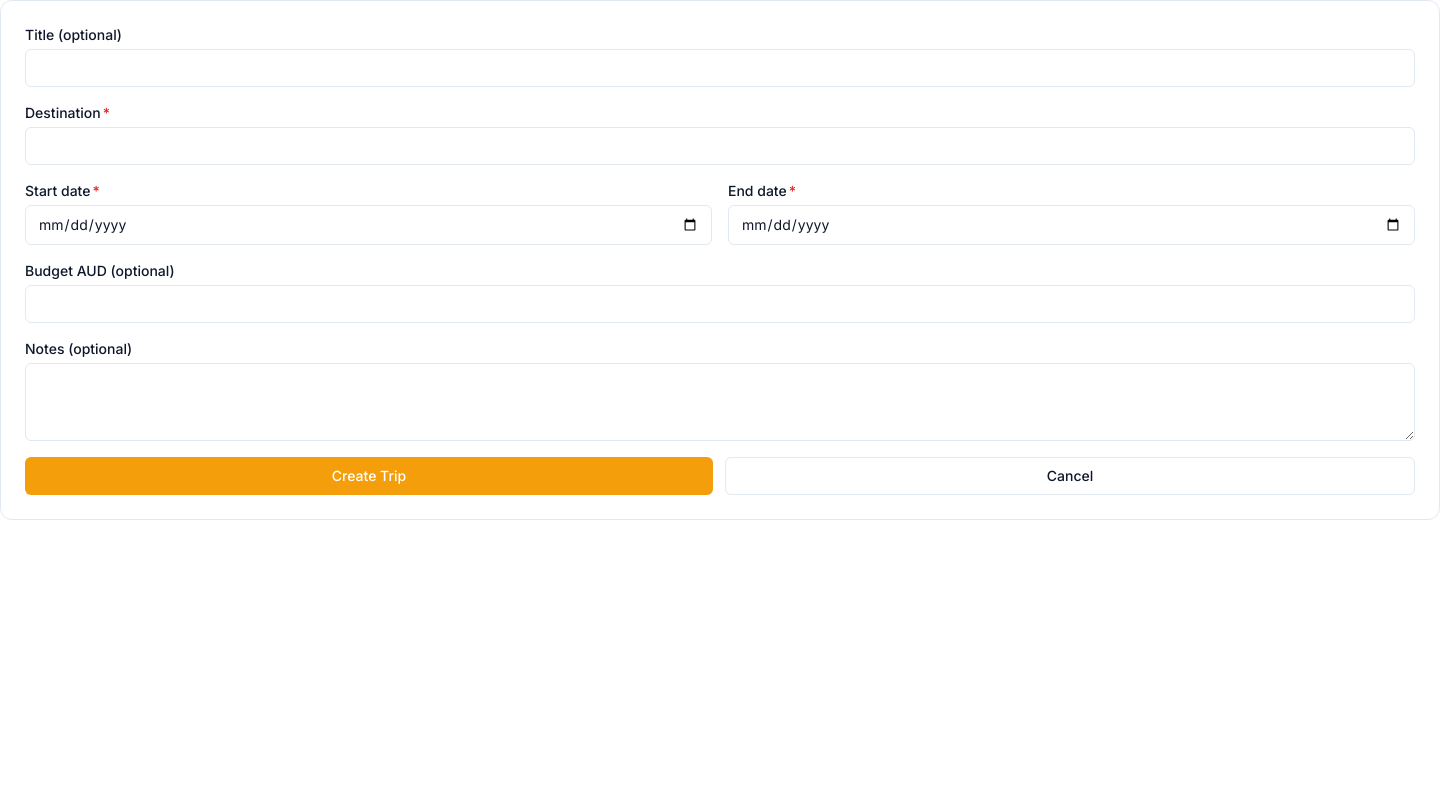
Test: TripForm › rejects endDate before startDate
Type "Bali" into the field labelled "Destination*". click: point(720, 146)
box: [25, 127, 1415, 165]
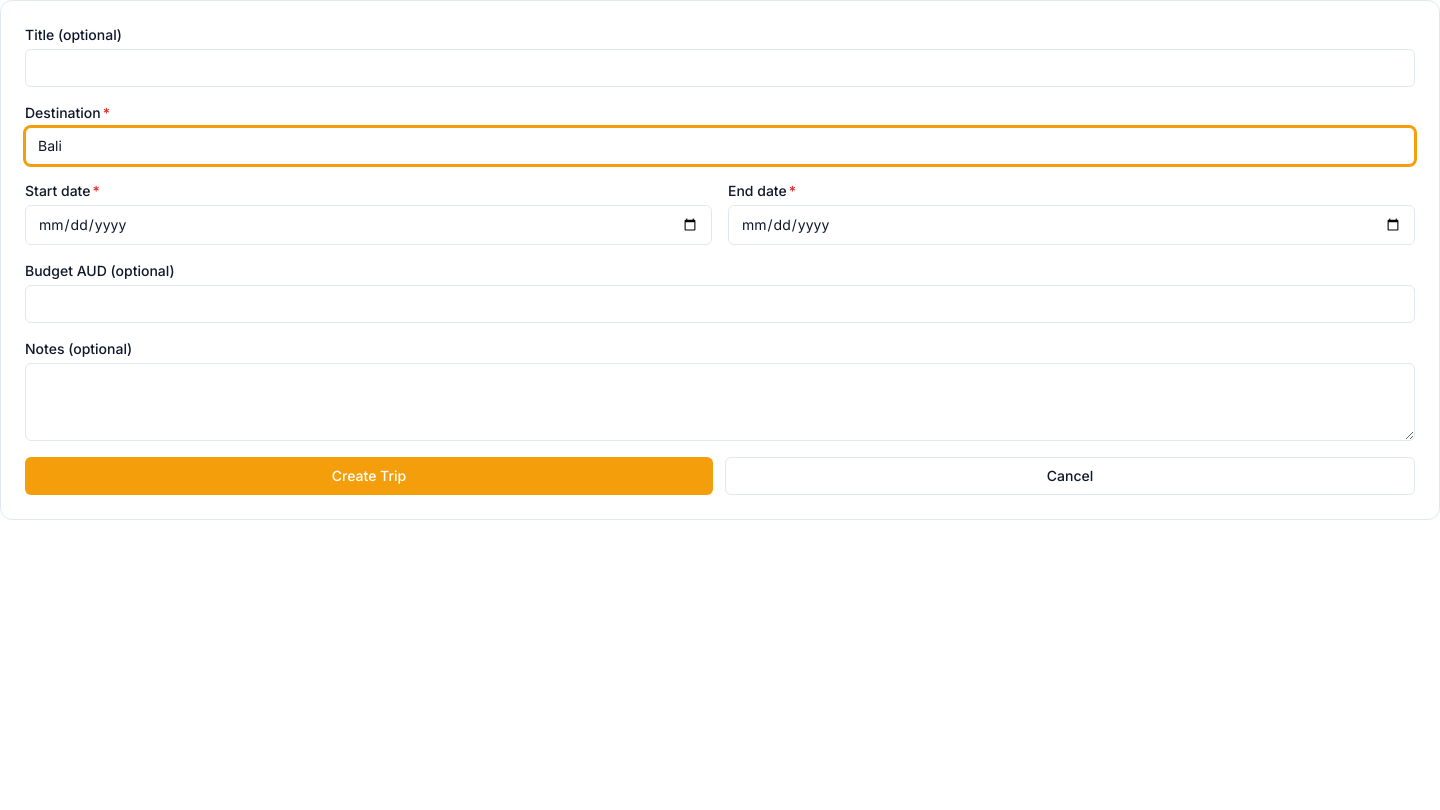
Type "2026-07-10" into the date field labelled "Start date*". click: point(368, 225)
box: [25, 205, 712, 245]
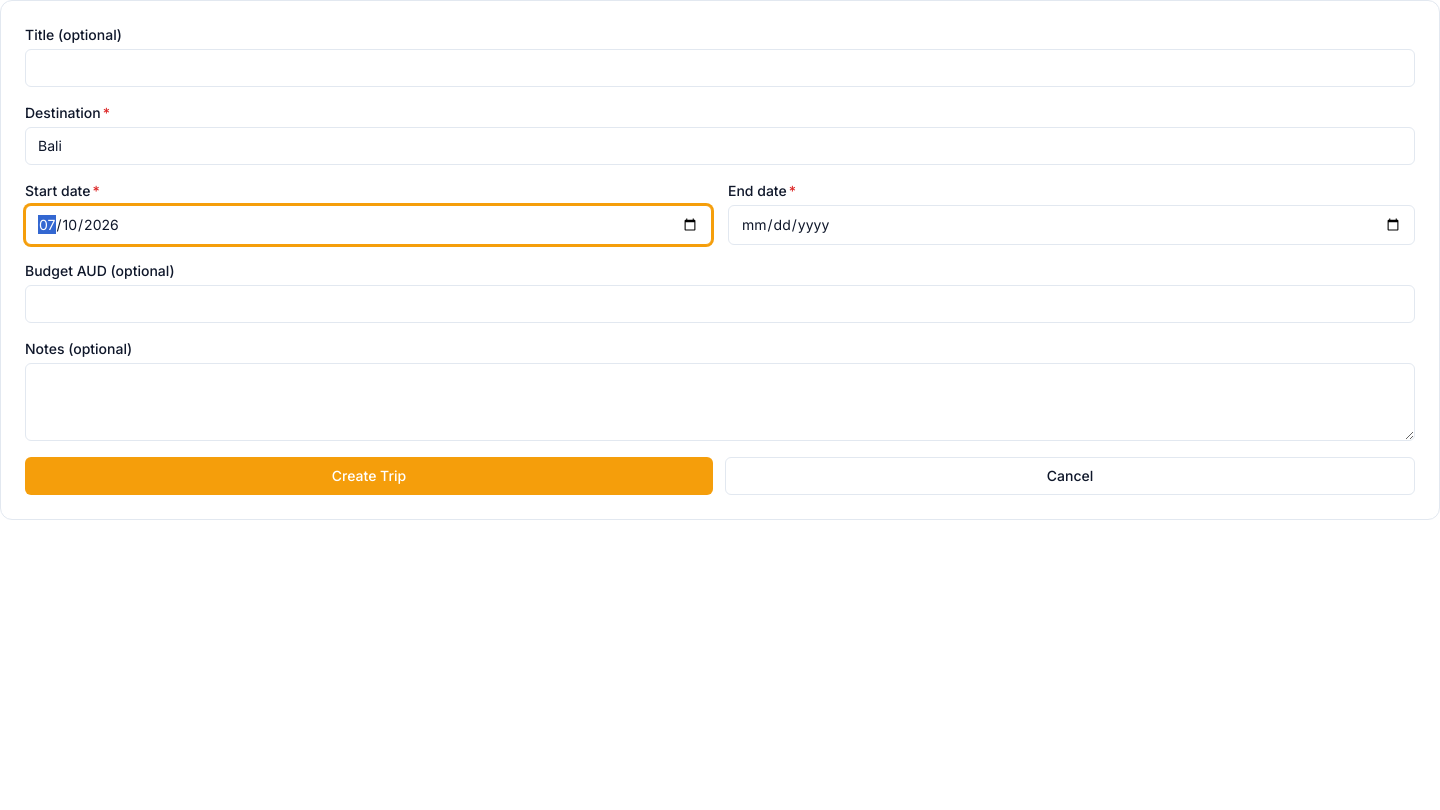
Type "2026-07-01" into the date field labelled "End date*". click: point(1072, 225)
box: [728, 205, 1415, 245]
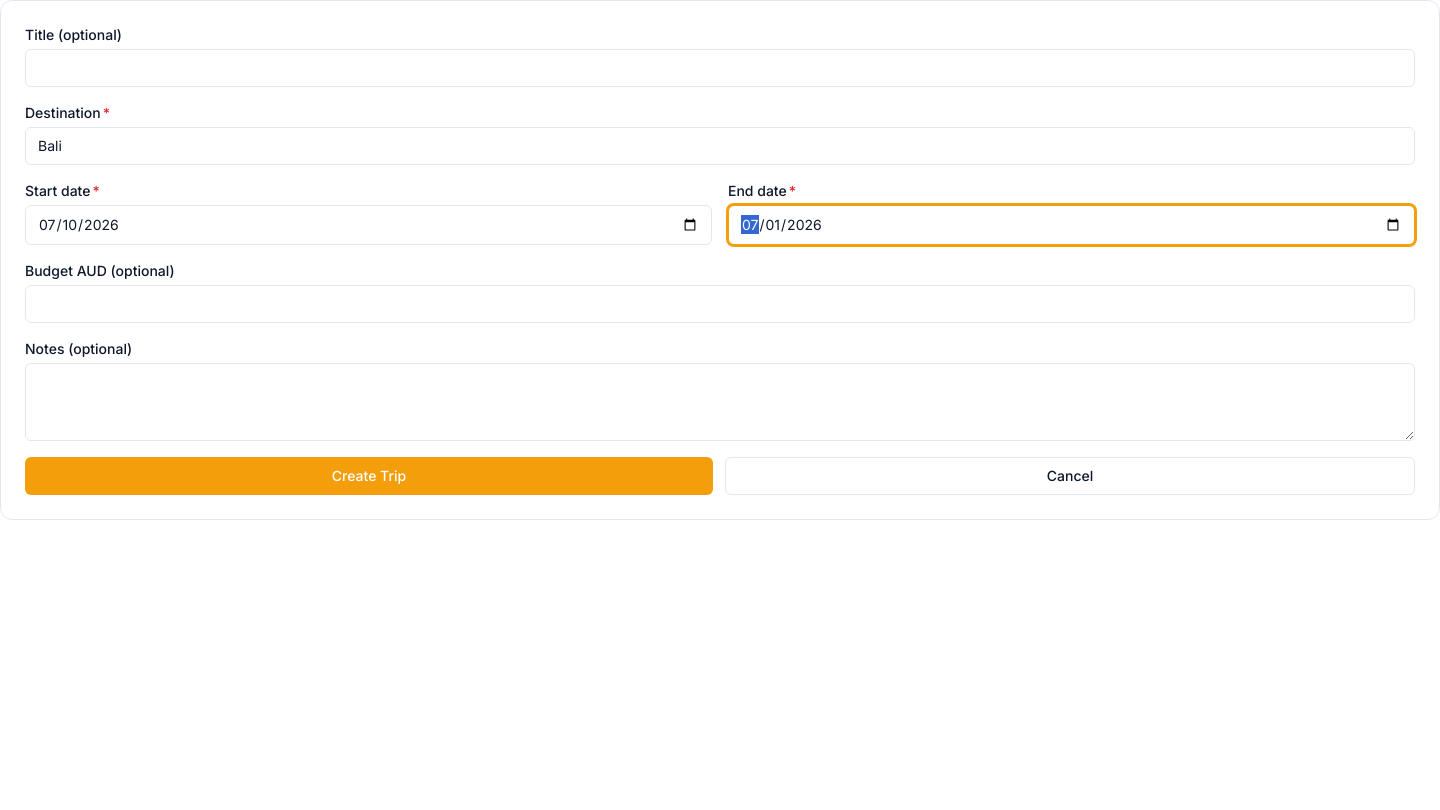
Click the button "Create Trip". click: point(369, 476)
box: [25, 457, 713, 495]
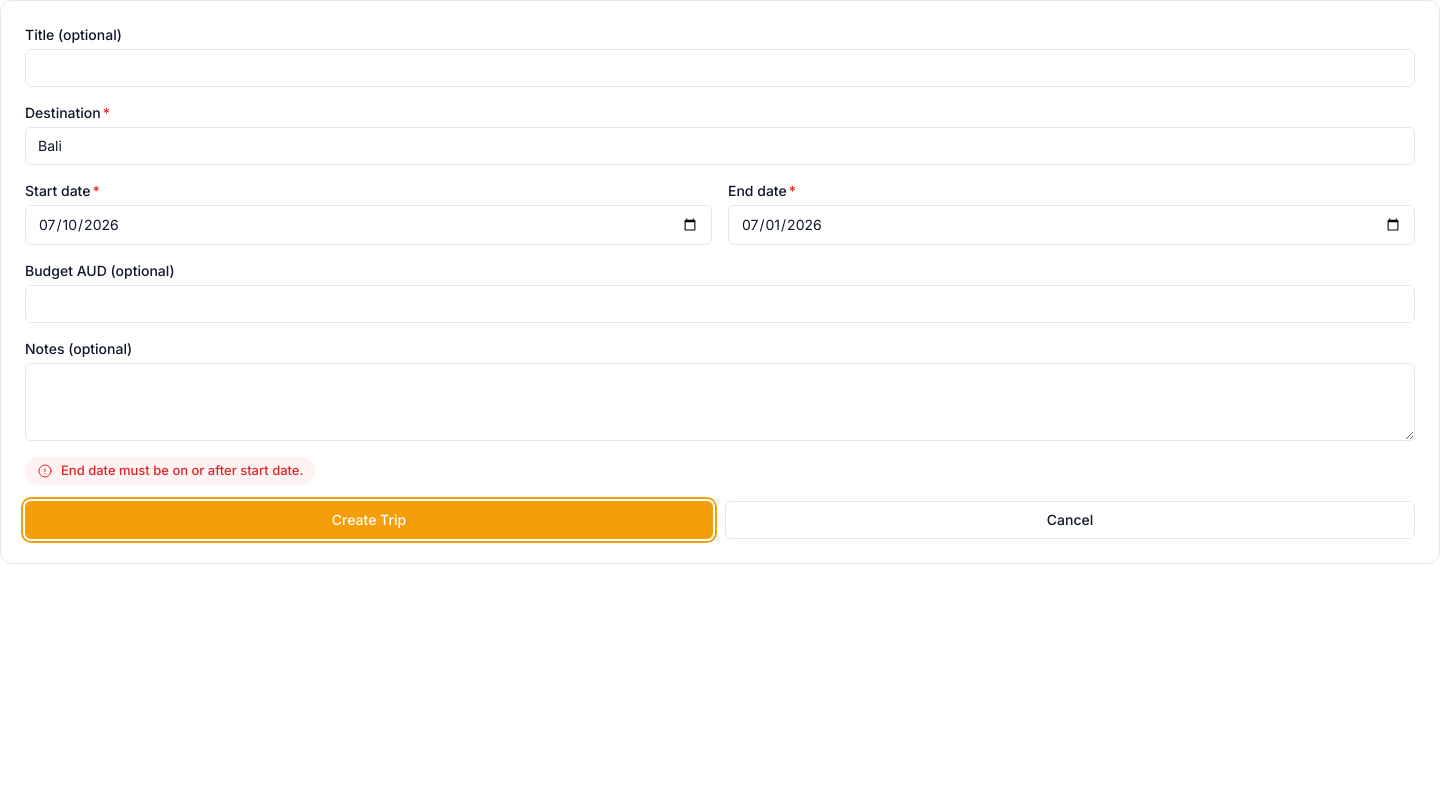
Now the text "End date must be on or after start date." is shown, box [25, 457, 315, 484]
